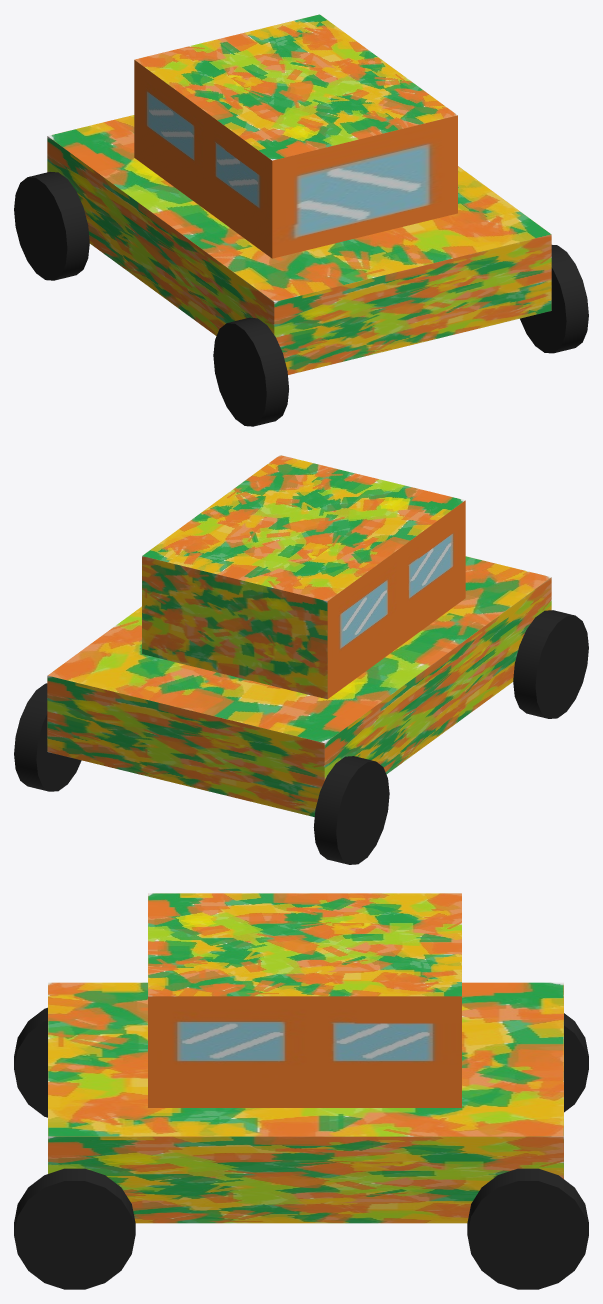
File: car_junren.FBX
3 views of the same model, one above another, from view 1: azimuth 30°, elevation 25°; view 2: azimuth 150°, elevation 25°; view 3: azimuth 270°, elevation 25° (orthographic). The views are drawn at different scales.
Parts seen in each view (by area): view 1: Cylinder004; view 2: Cylinder004; view 3: Cylinder004.
Boxes of the visible parts, bbox=[...] form: Cylinder004: bbox=[14, 14, 588, 426]; Cylinder004: bbox=[14, 455, 588, 864]; Cylinder004: bbox=[14, 893, 588, 1289].
Size of the model in its own units: 697 by 460 by 947.
Materials: 3 (2 with a texture image).
